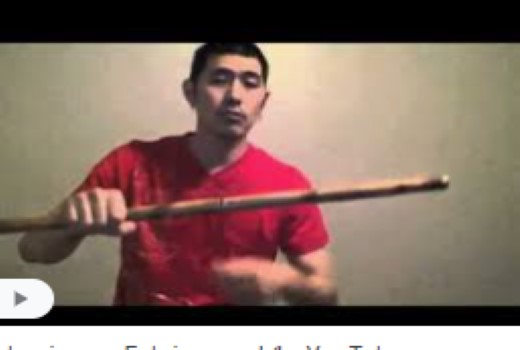baston_e: (14, 173, 435, 245)
baston_v: (432, 166, 460, 199)
